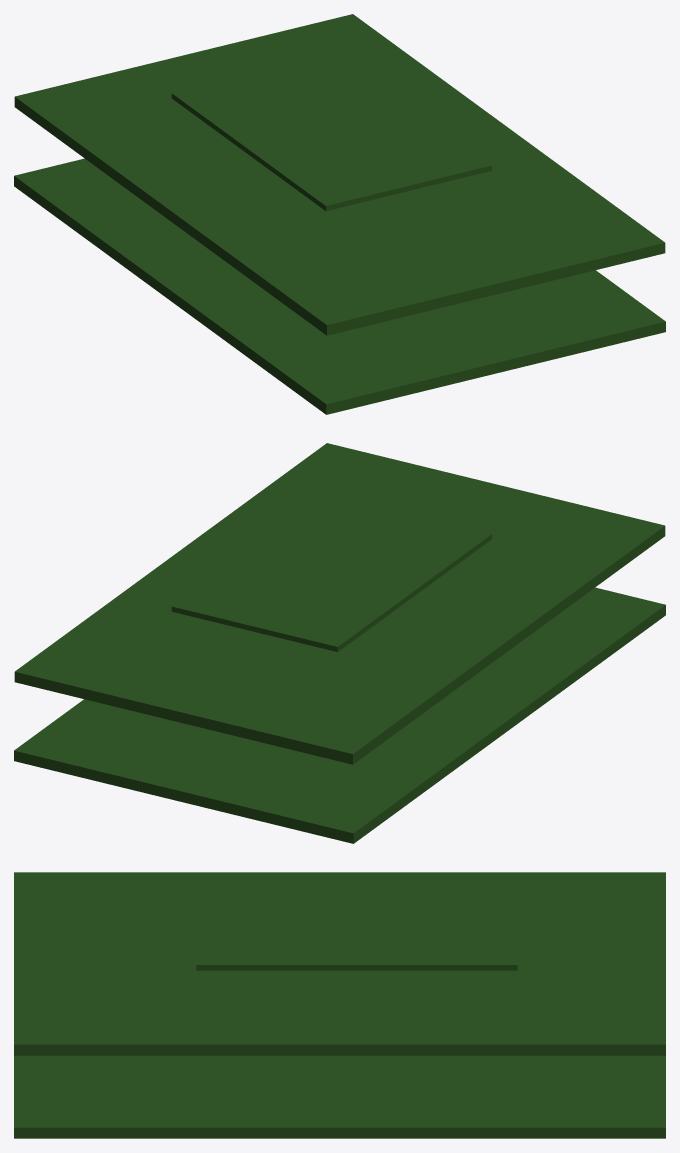
File: Grass_mesh.fbx
3 views of the same model, one above another, from view 1: azimuth 30°, elevation 25°; view 2: azimuth 150°, elevation 25°; view 3: azimuth 270°, elevation 25° (orthographic). The views are drawn at different scales.
Parts seen in each view (by area): view 1: Cube; view 2: Cube; view 3: Cube.
Boxes of the visible parts, x1,y1,x2,y2 form: Cube: (14,14,665,414); Cube: (14,443,665,843); Cube: (14,872,665,1138).
Size of the model in its own units: 6744 by 2349 by 10745.
